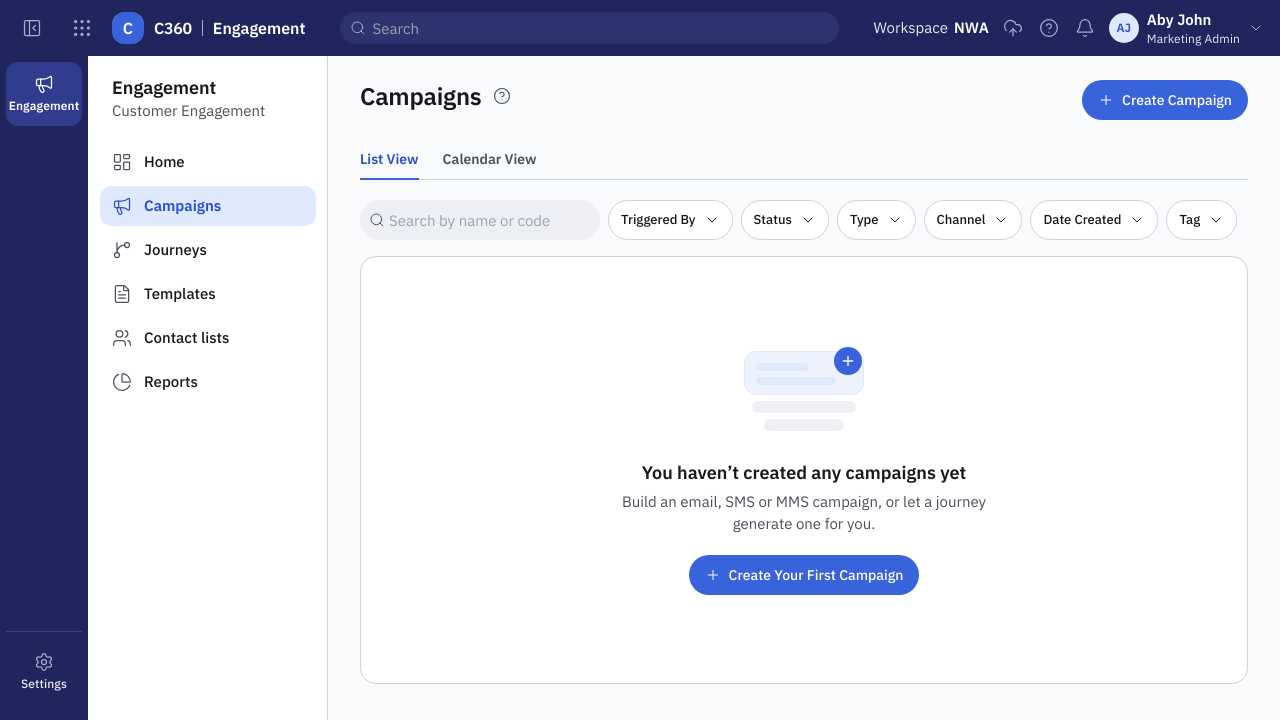
it: opens from the header button with focus in the name; Cancel closes it without asking and focus goes back
The width and height of the screenshot is (1280, 720).
Click the button "Create Campaign" at (1165, 100), box [1082,80,1248,120]
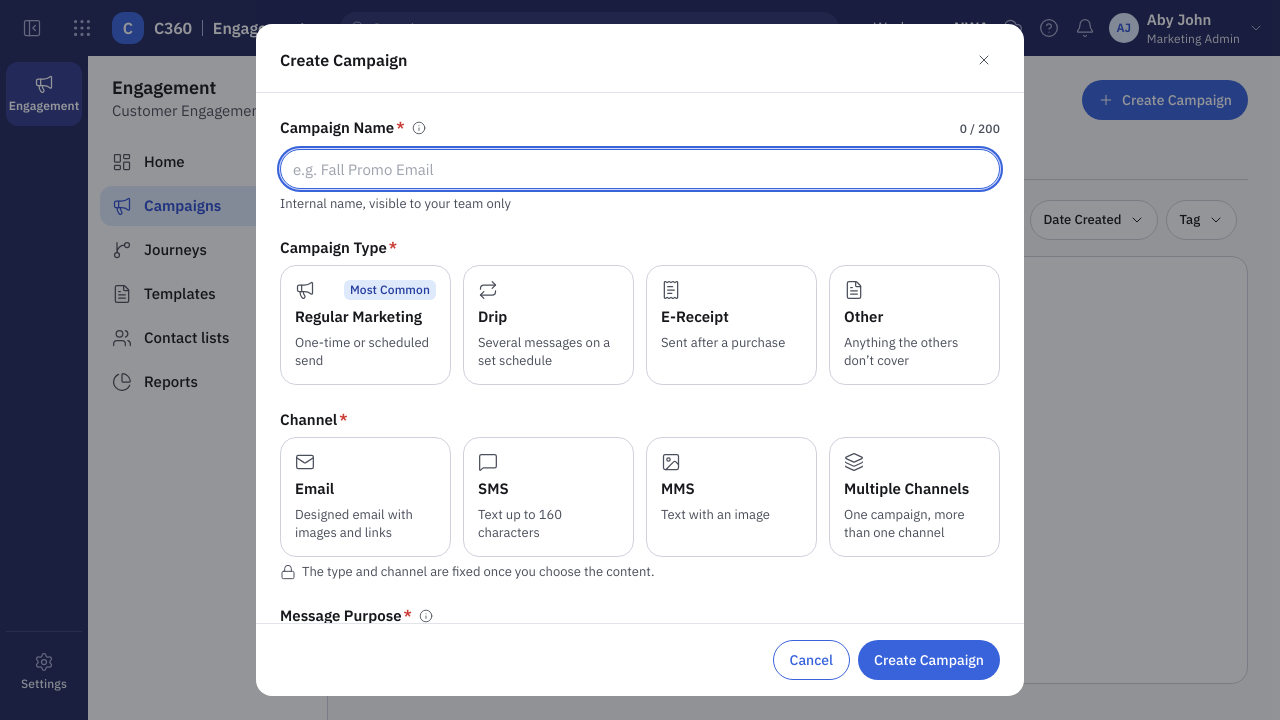
Expected: the dialog "Create Campaign" is shown, [256,24,1024,696]
Expected: the text "The type and channel are fixed once you choose the content." is shown, [280,563,654,580]
Type "Draft idea" into the field labelled "Campaign Name*" at (640, 169), box [280,149,1000,189]
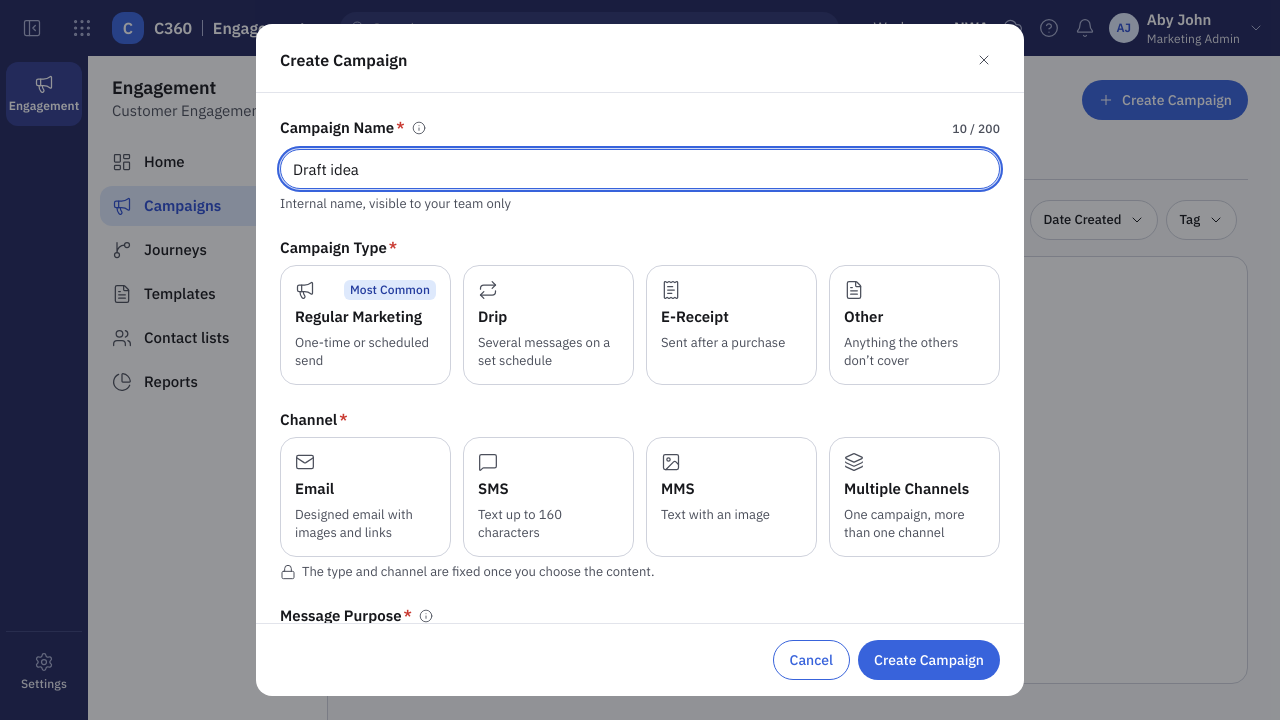
Click the button "Cancel" at (811, 660), box [772,640,850,680]
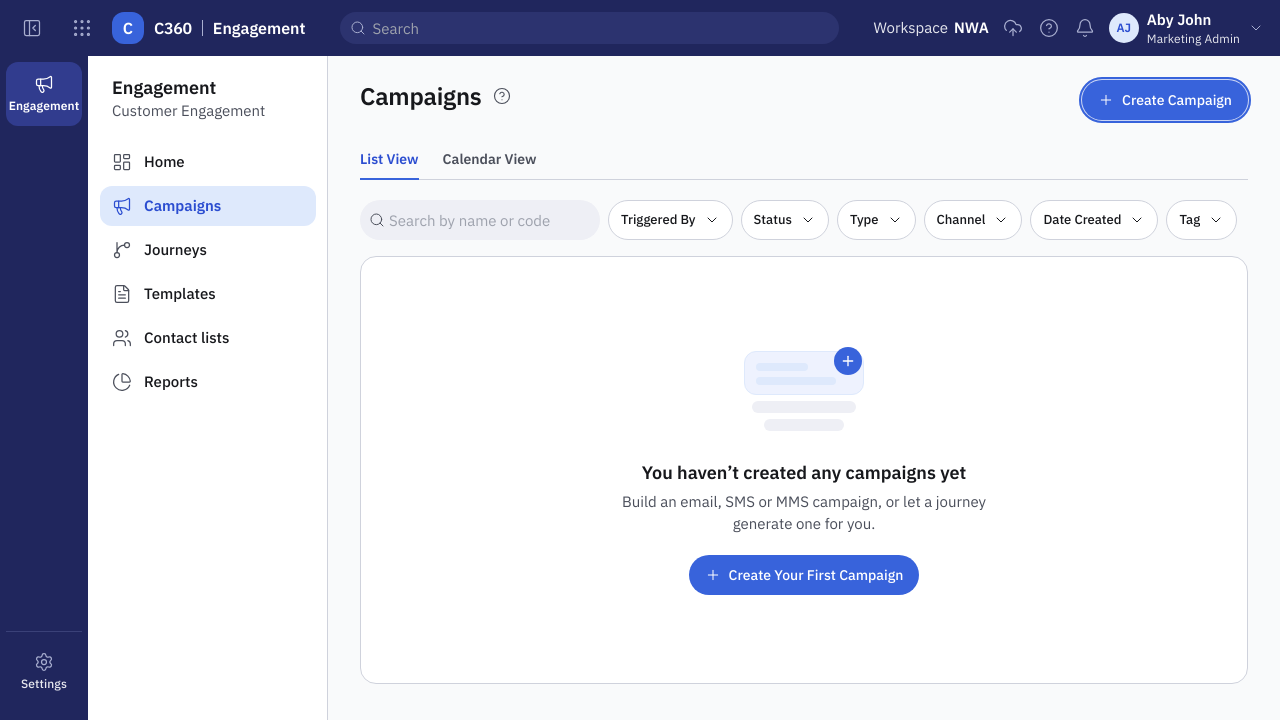
Expected: the dialog is gone
Click the button "Create Campaign" at (1165, 100), box [1082,80,1248,120]
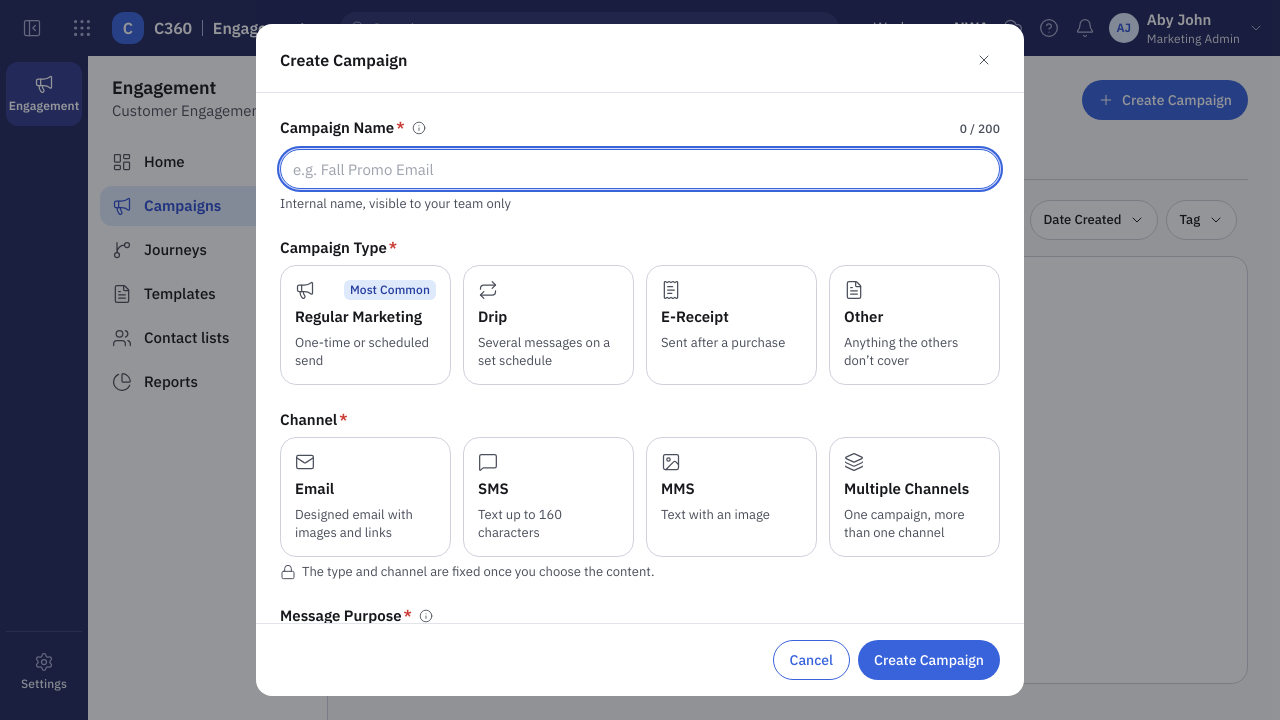
Press Escape
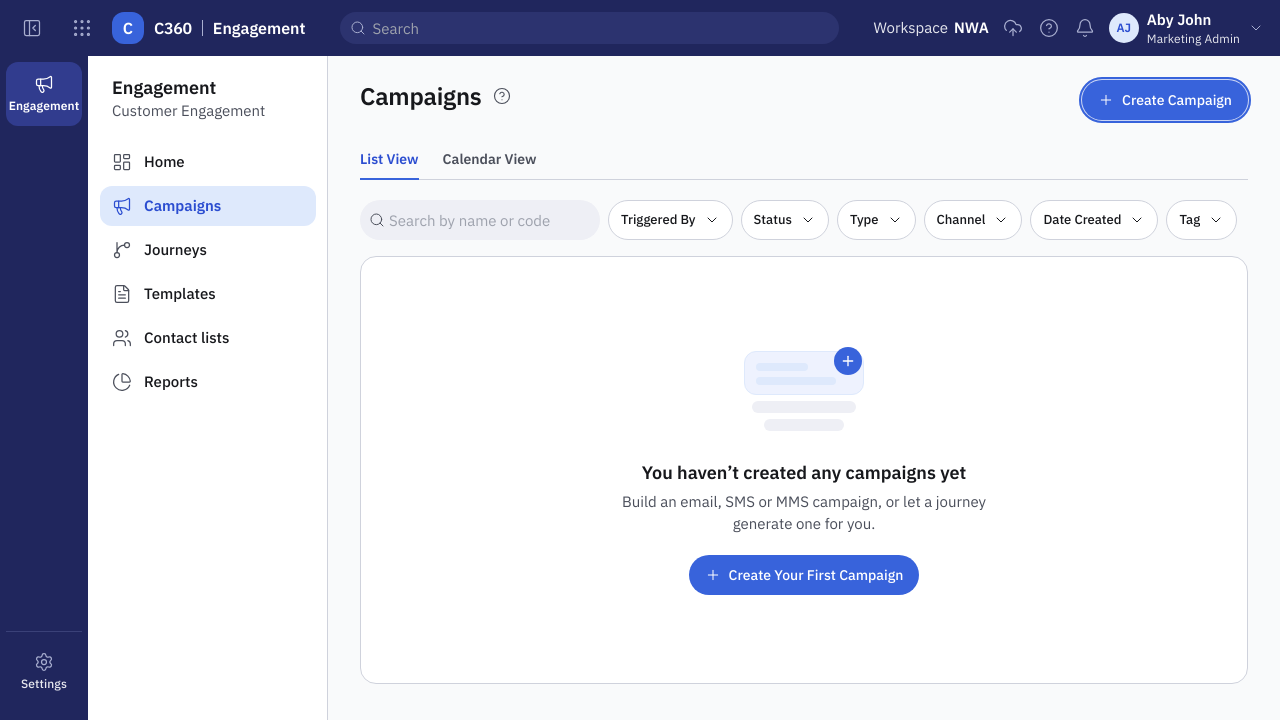
Expected: the dialog is gone
